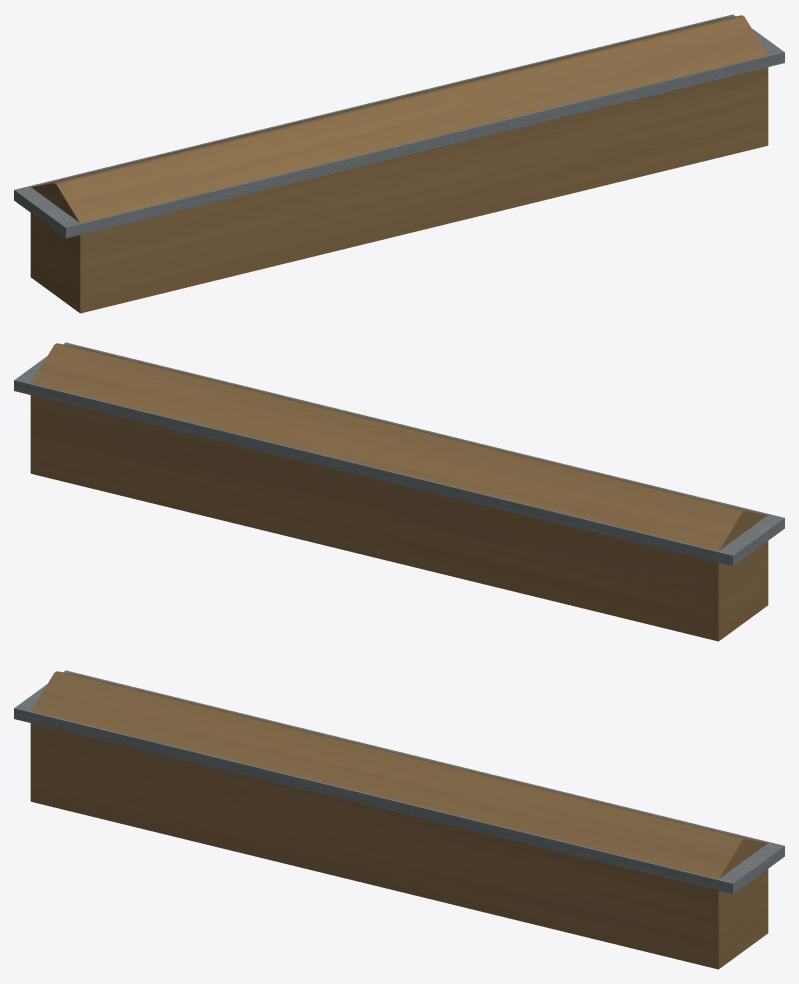
Rendered from BumperRailingx8.glb.
The picture shows the model from 3 angles, top to bottom: view 1: azimuth 30°, elevation 25°; view 2: azimuth 150°, elevation 25°; view 3: azimuth 330°, elevation 25°; orthographic projection.
Visible parts, largest first — view 1: BumperRailingx8; view 2: BumperRailingx8; view 3: BumperRailingx8.
Boxes of the visible parts, x1,y1,x2,y2 form: BumperRailingx8: [14, 14, 784, 313]; BumperRailingx8: [14, 342, 784, 641]; BumperRailingx8: [14, 670, 784, 969].
Bounding box in the file's own units: 16.72 × 2.48 × 2.09.
2 materials, 2 textured.
